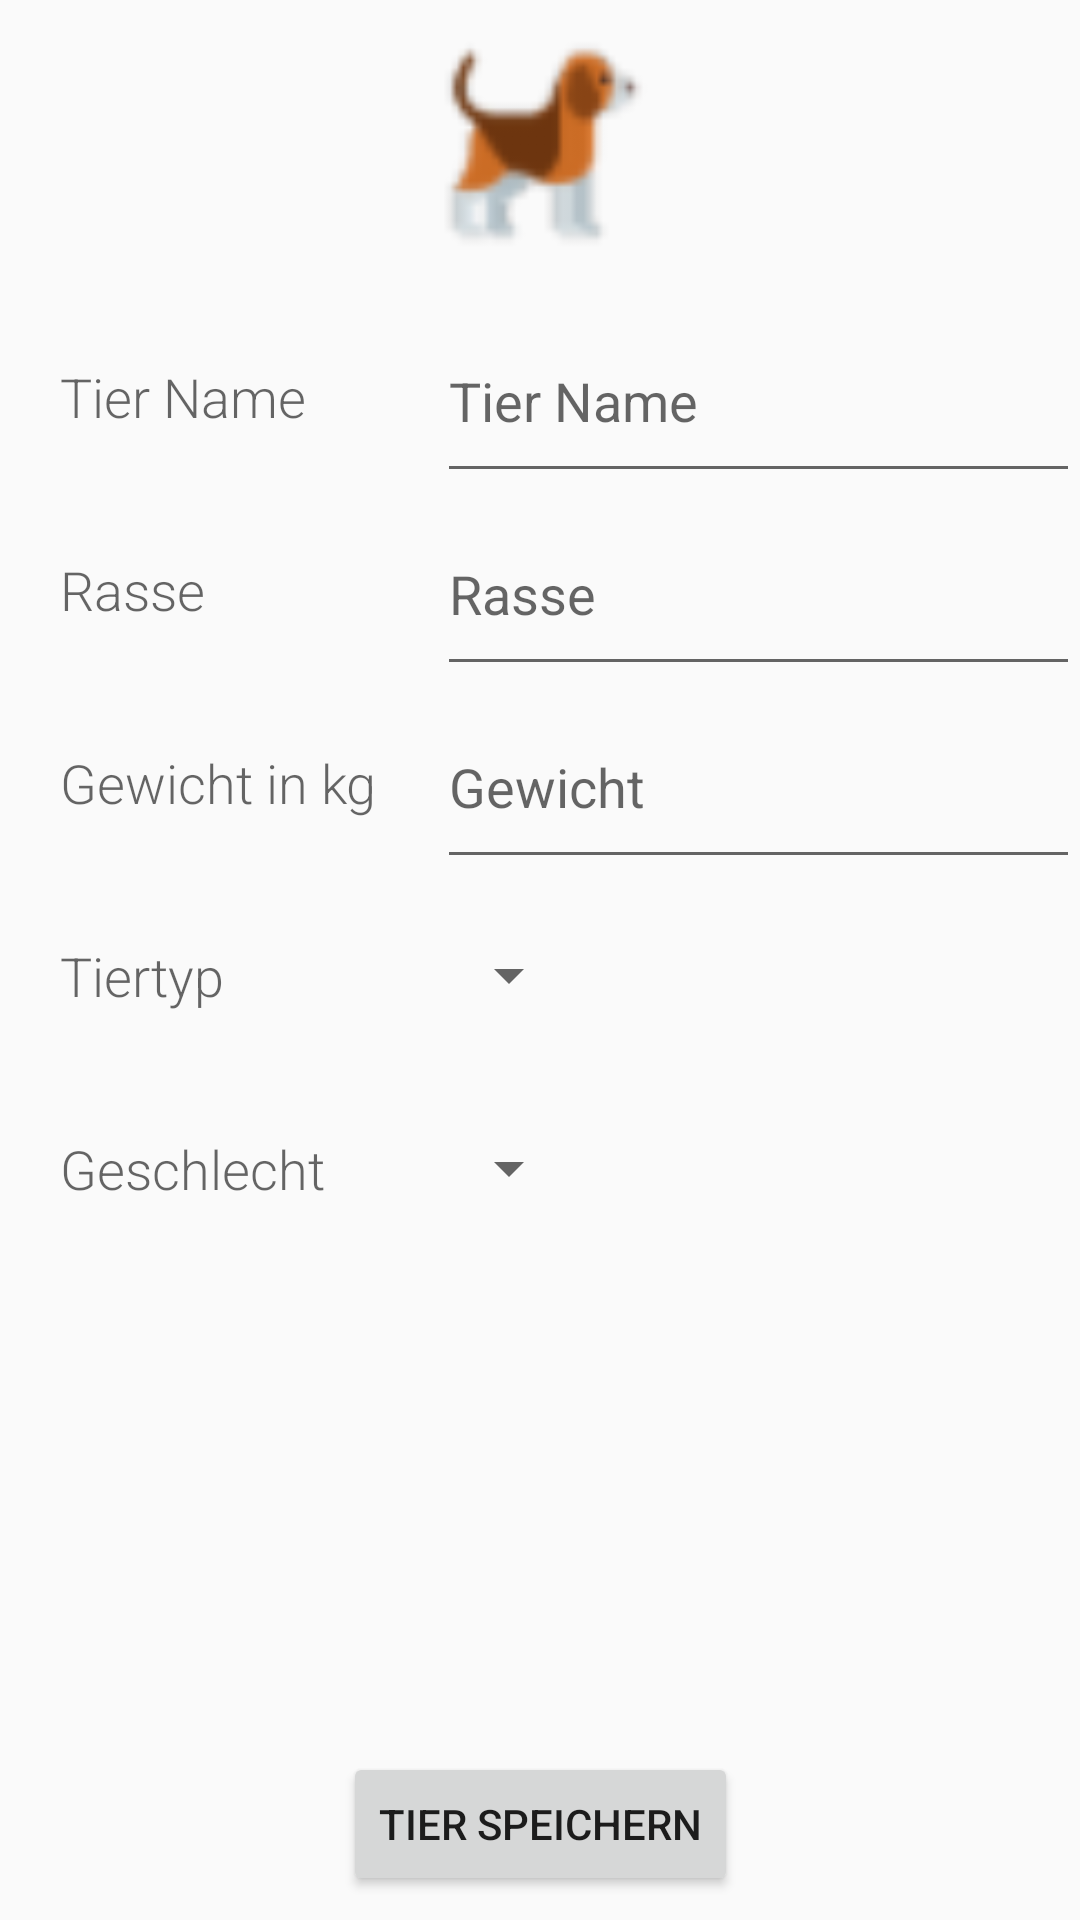

Screen size 1080×1920. Icon name, then its box in pixels as bbox=[x1, y1, x2, y2]:
dog: bbox=[450, 48, 638, 238]
